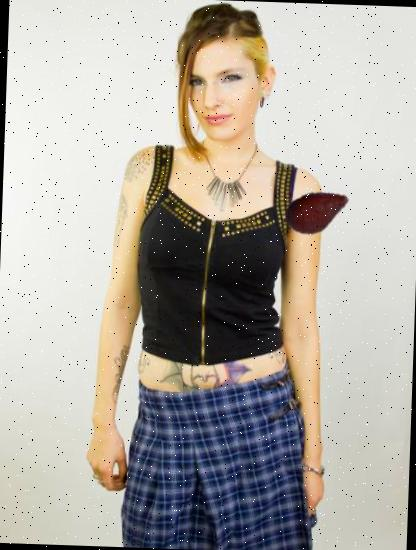Salak: (280, 176, 352, 248)
